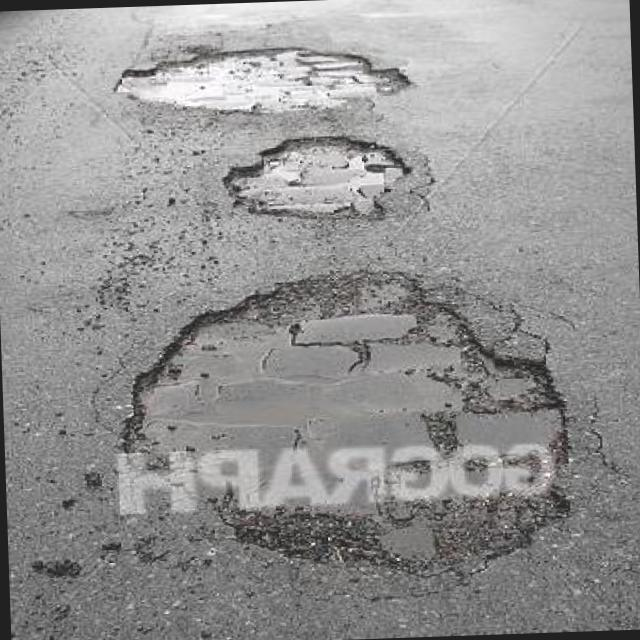Lubang: (122, 271, 567, 573), (115, 47, 411, 111), (223, 136, 410, 213)
